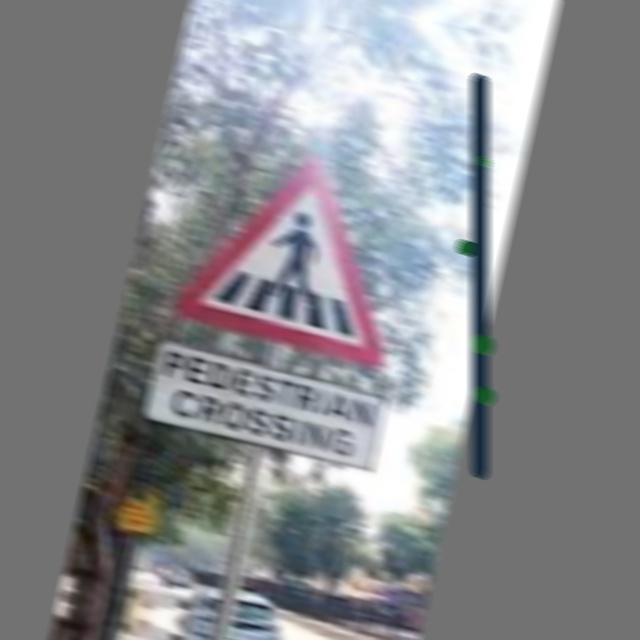Pedestrian_Crossing: (178, 132, 432, 366)
